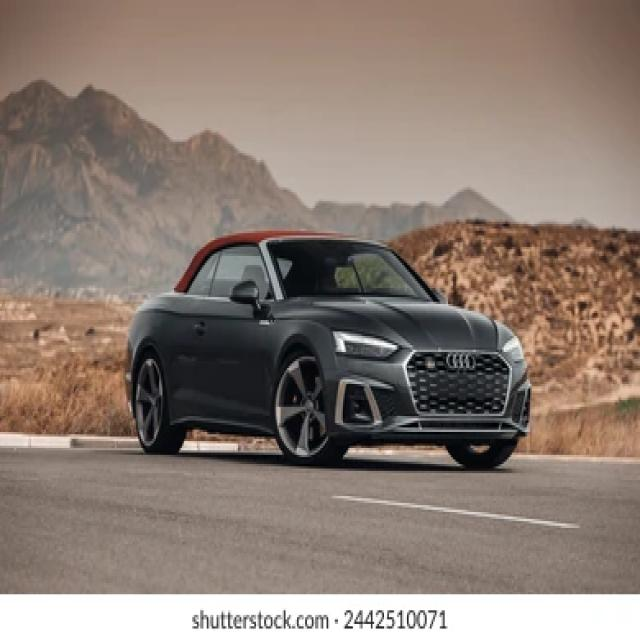audi: (445, 349, 478, 371)
